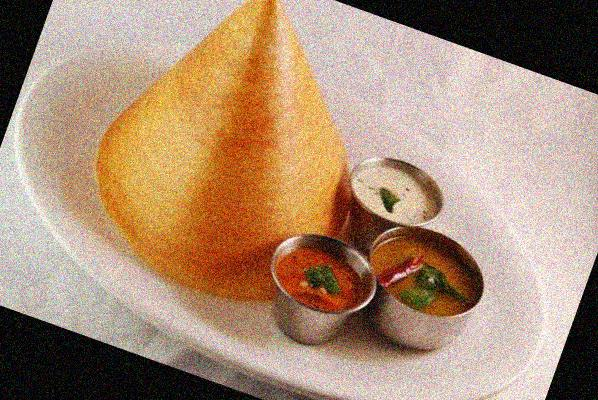dosa: (93, 5, 356, 299)
